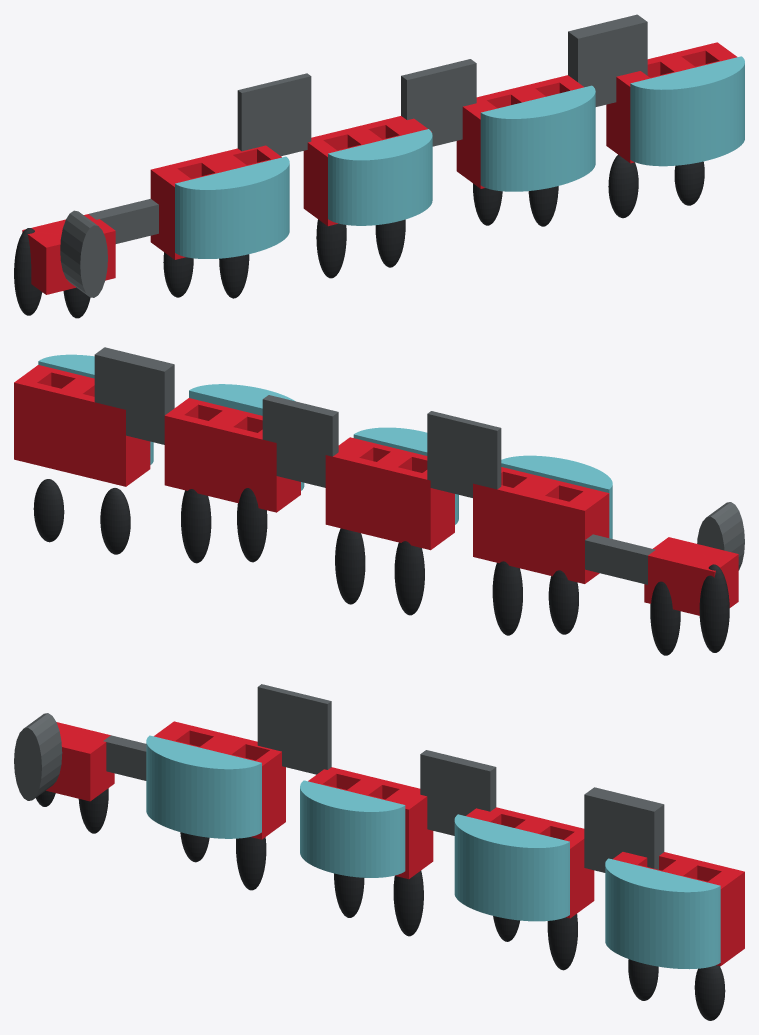
The model's file is tinker.obj.
3 views of the same model, one above another, from view 1: azimuth 30°, elevation 25°; view 2: azimuth 150°, elevation 25°; view 3: azimuth 330°, elevation 25° (orthographic).
Parts seen in each view (by area): view 1: group_0_7720667, group_0_6383466, group_0_15277357, group_0_2829873; view 2: group_0_15277357, group_0_6383466, group_0_2829873, group_0_7720667; view 3: group_0_7720667, group_0_6383466, group_0_15277357, group_0_2829873.
Part boxes in pixels (<box>): group_0_7720667: <box>175,56,744,258</box>; group_0_6383466: <box>60,14,647,297</box>; group_0_15277357: <box>22,42,737,294</box>; group_0_2829873: <box>14,154,704,318</box>; group_0_15277357: <box>14,365,738,615</box>; group_0_6383466: <box>94,347,744,584</box>; group_0_2829873: <box>33,479,729,655</box>; group_0_7720667: <box>38,354,612,538</box>; group_0_7720667: <box>146,735,720,969</box>; group_0_6383466: <box>14,684,664,872</box>; group_0_15277357: <box>46,721,744,966</box>; group_0_2829873: <box>36,788,725,1020</box>.
Size of the model in its own units: 203 by 61 by 23.27.
